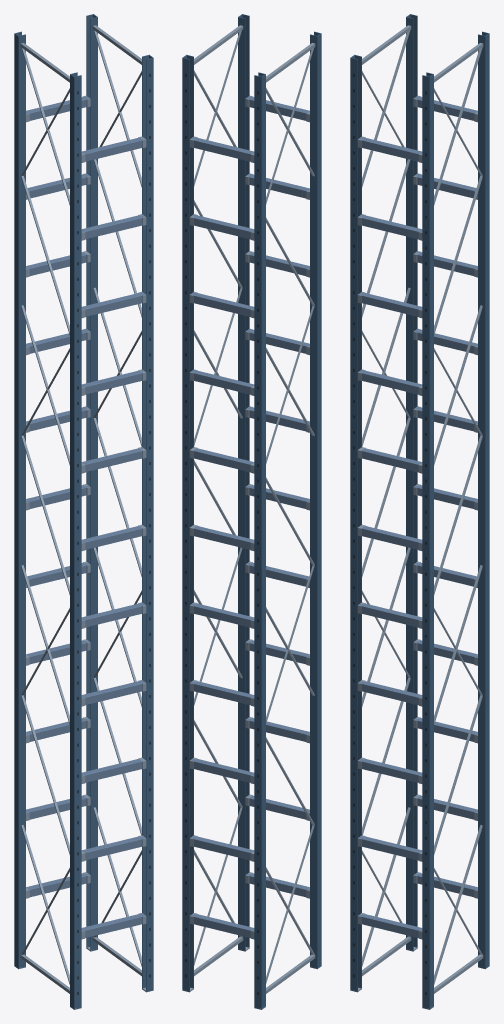
Rendered from SM_GHS_CADRack_B_W08169.fbx.
3 views of the same model, side by side, from view 1: azimuth 30°, elevation 25°; view 2: azimuth 150°, elevation 25°; view 3: azimuth 330°, elevation 25° (orthographic).
Parts seen in each view (by area): view 1: SM_GHS_CADRack_B_W08169; view 2: SM_GHS_CADRack_B_W08169; view 3: SM_GHS_CADRack_B_W08169.
Part boxes in pixels (<box>): SM_GHS_CADRack_B_W08169: <box>14,14,153,1009</box>; SM_GHS_CADRack_B_W08169: <box>182,14,321,1009</box>; SM_GHS_CADRack_B_W08169: <box>350,14,489,1009</box>.
Size of the model in its own units: 81.69 by 107 by 915.
